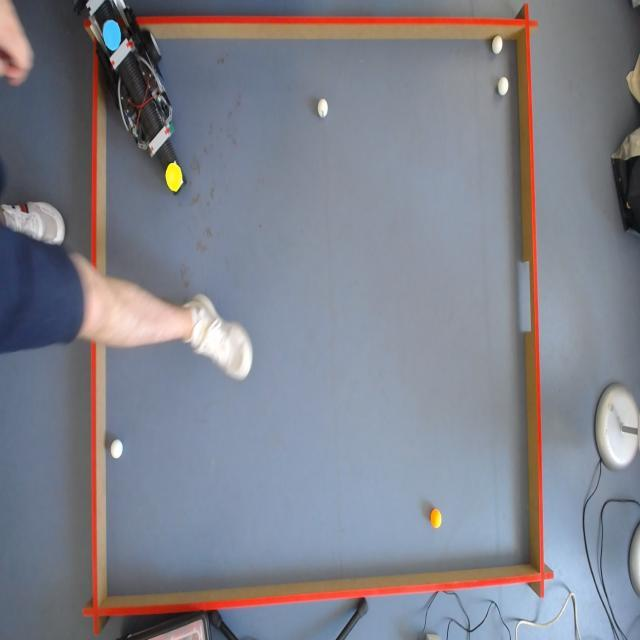orange: (431, 508, 443, 530)
robot: (88, 0, 167, 171)
robot-front: (165, 162, 182, 192)
robot-rear: (103, 19, 121, 51)
white: (315, 96, 329, 118), (490, 36, 504, 56), (110, 440, 124, 460), (498, 76, 510, 96)
